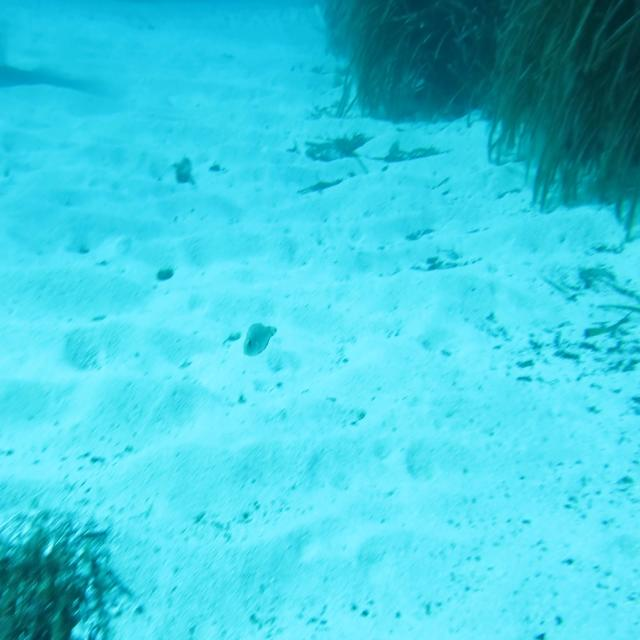BN: (240, 316, 280, 362)
nest: (0, 496, 130, 640)
vegetation: (337, 0, 639, 124), (491, 127, 640, 206)
